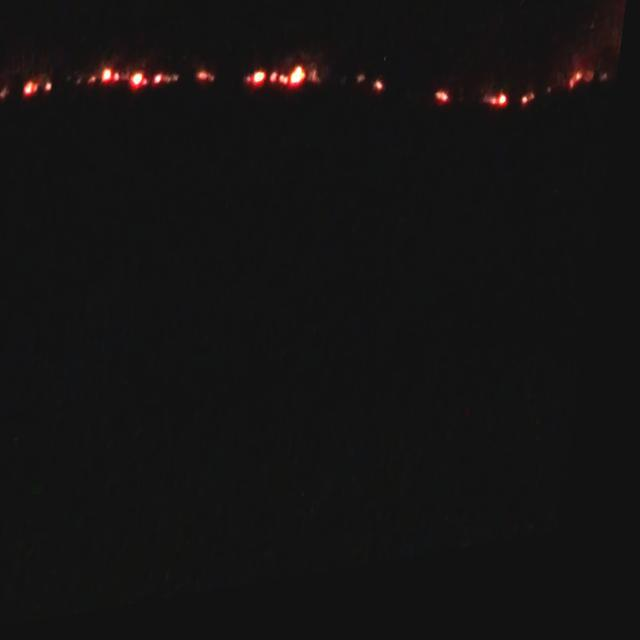Fire: (95, 60, 181, 102), (251, 72, 306, 101), (22, 76, 56, 100), (572, 85, 599, 108), (436, 100, 454, 122), (489, 110, 512, 127), (378, 90, 388, 104)
